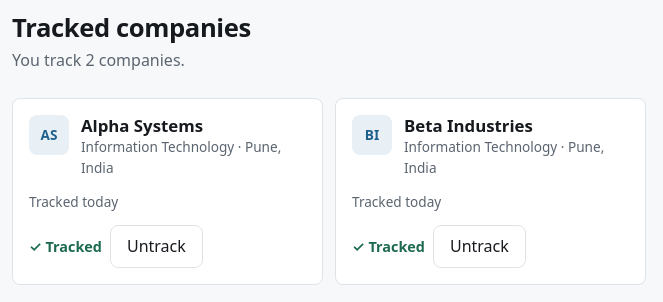
Scenario: TrackedCompaniesPage › removes a card as soon as it is untracked, without refetching
Click the button named "Untrack Alpha Systems" at (156, 247), box [110, 225, 203, 268]
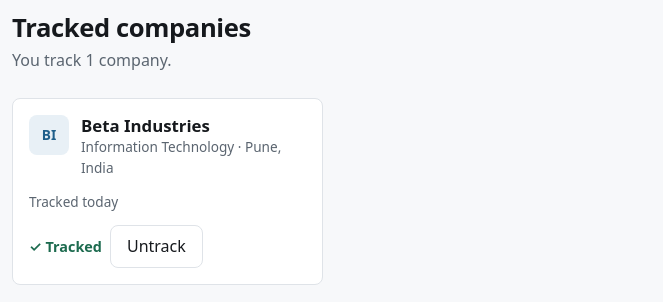
Expected: the link "Beta Industries" is shown, [81, 114, 210, 137]
Expected: the text "You track 1 company." is shown, [12, 49, 172, 71]
Expected: the link "Alpha Systems" is gone
